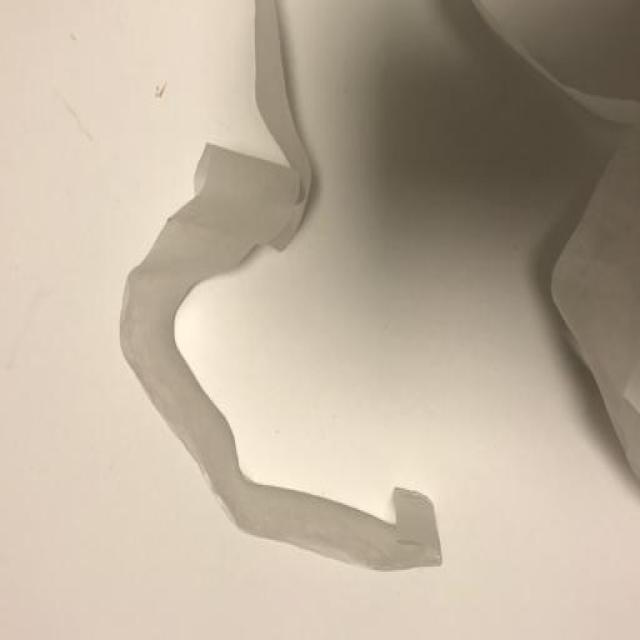Random Trash: (119, 0, 444, 572), (474, 0, 640, 482)
